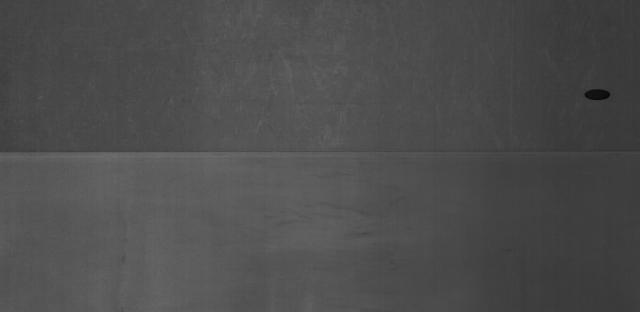punching_hole: (580, 84, 614, 104)
welding_line: (4, 141, 638, 166)
